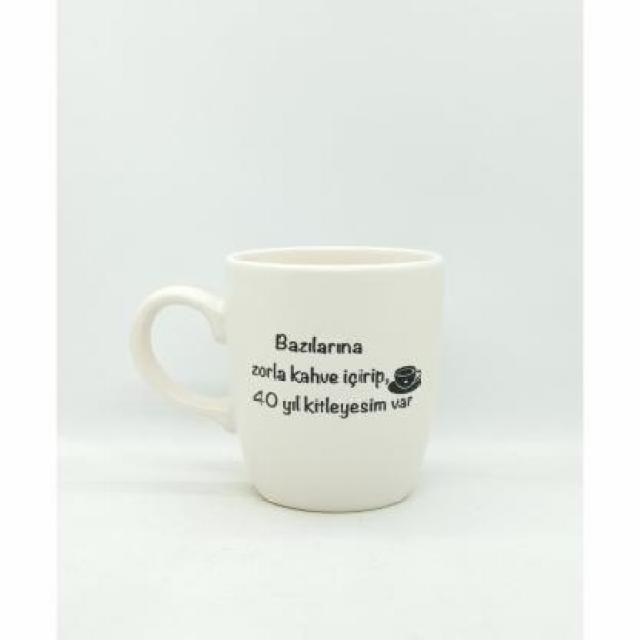taza: (122, 217, 453, 520)
